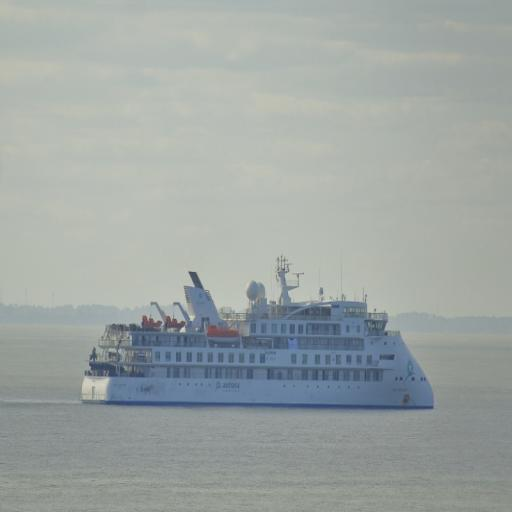cruises: (79, 252, 442, 412)
